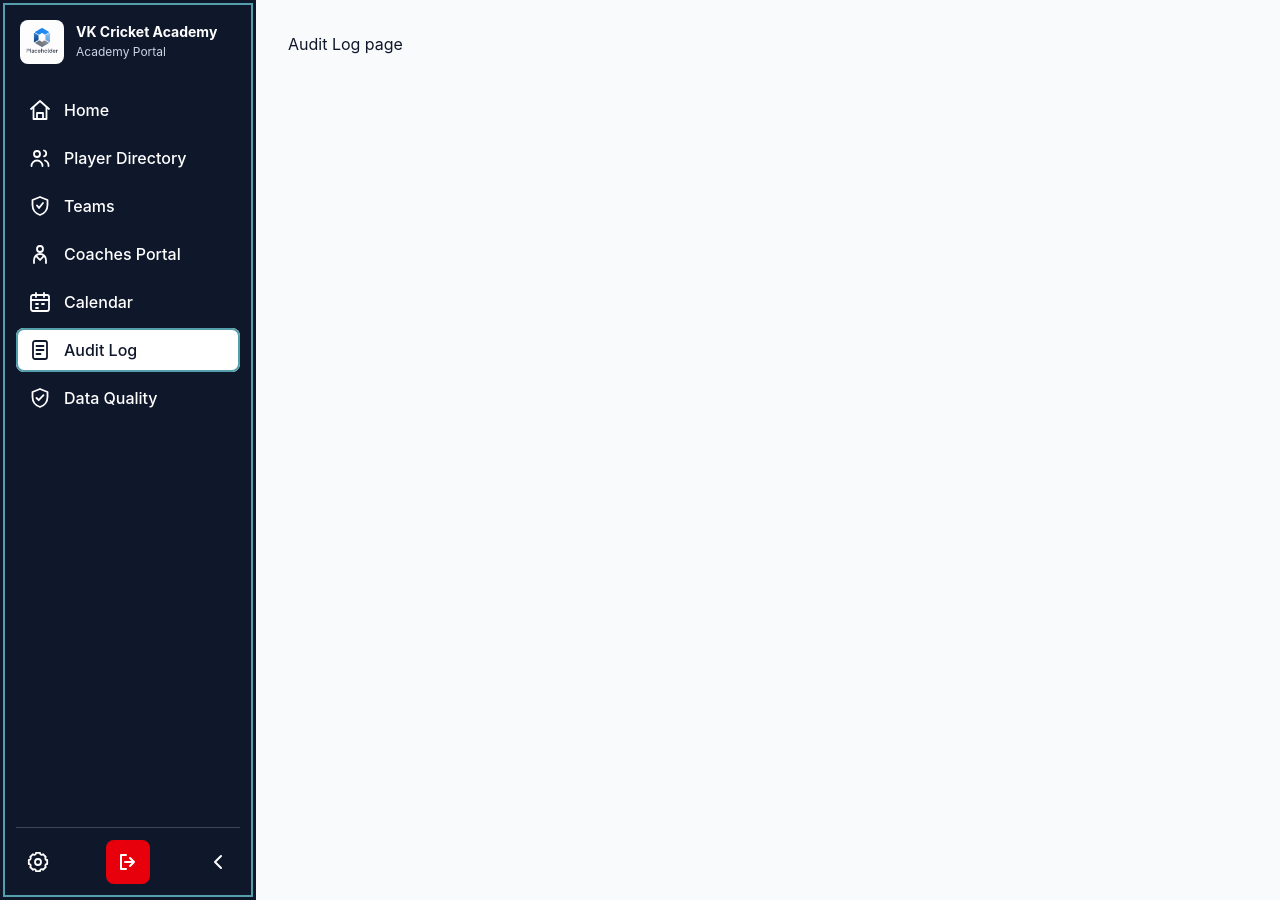
Test case: responsive navigation › uses the Audit Log title on direct and sidebar navigation
What coordinates should you click on to do the following:
click the link "Teams"
I would click on:
 (71, 206)
Its box is top-left (28, 194), bottom-right (115, 218).
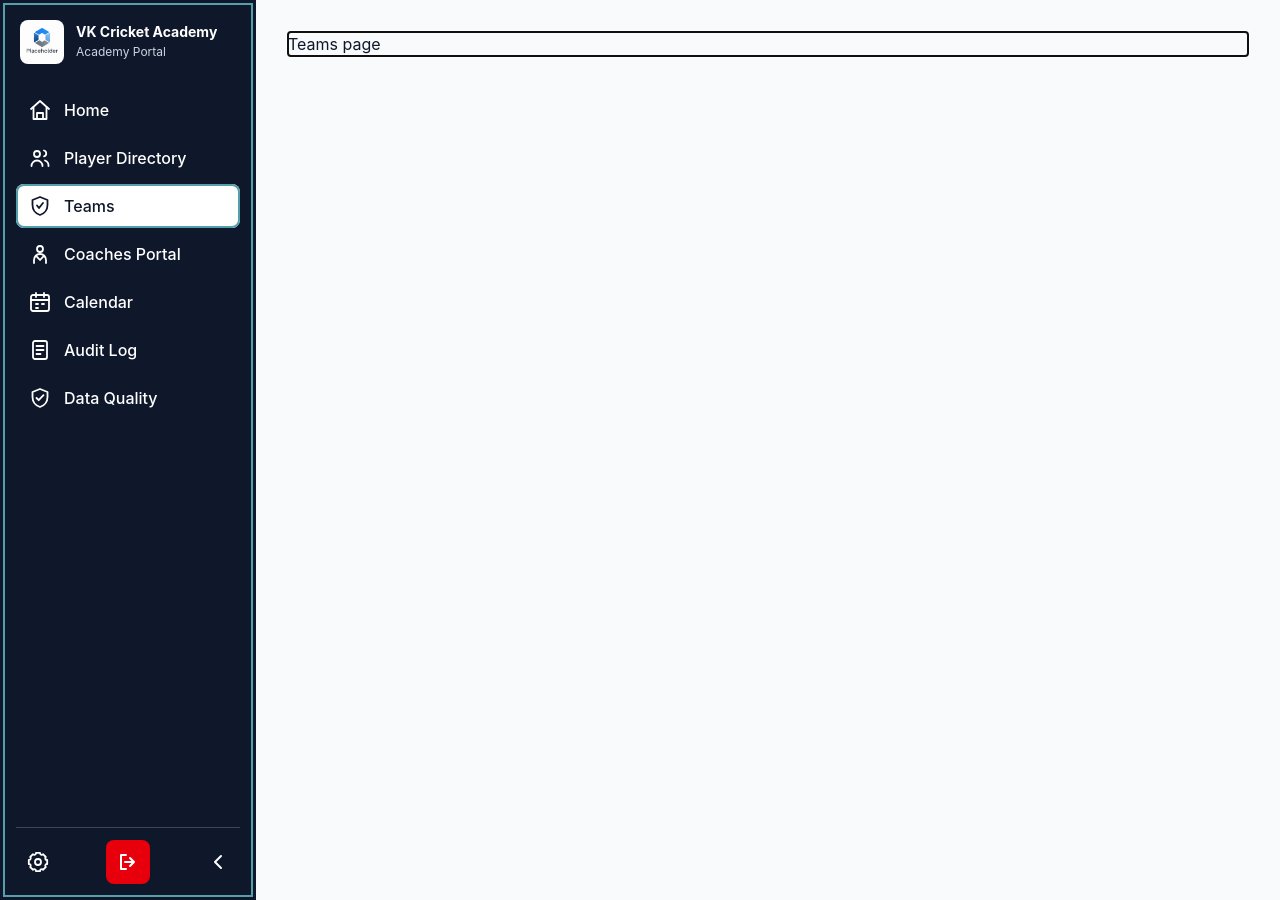
Check: the heading "Teams page" is shown, box top-left (288, 34), bottom-right (381, 54)
What coordinates should you click on to do the following:
click the link "Audit Log"
I would click on:
 (83, 350)
Its box is top-left (28, 338), bottom-right (137, 362).
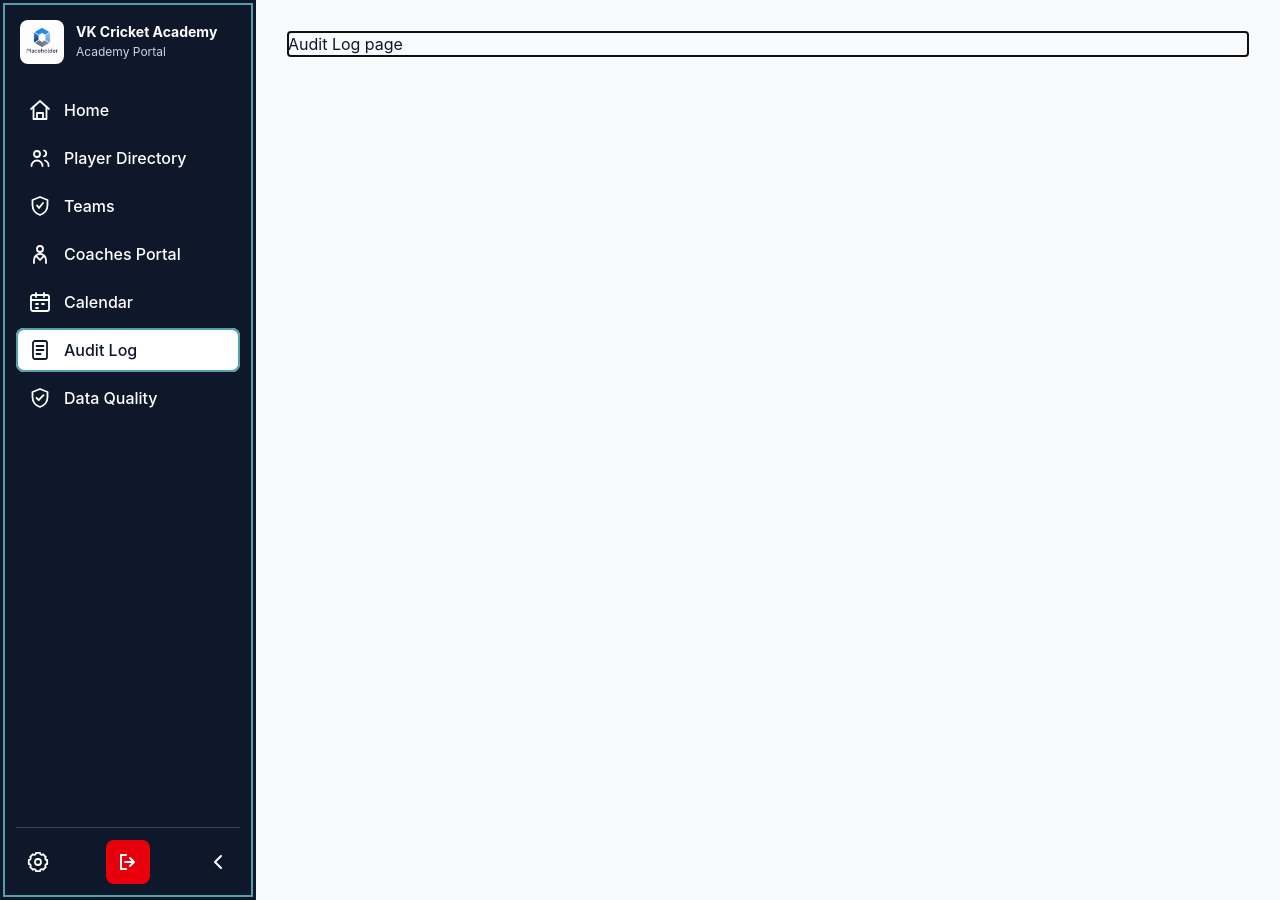
Check: the heading "Audit Log page" is shown, box top-left (288, 34), bottom-right (403, 54)
